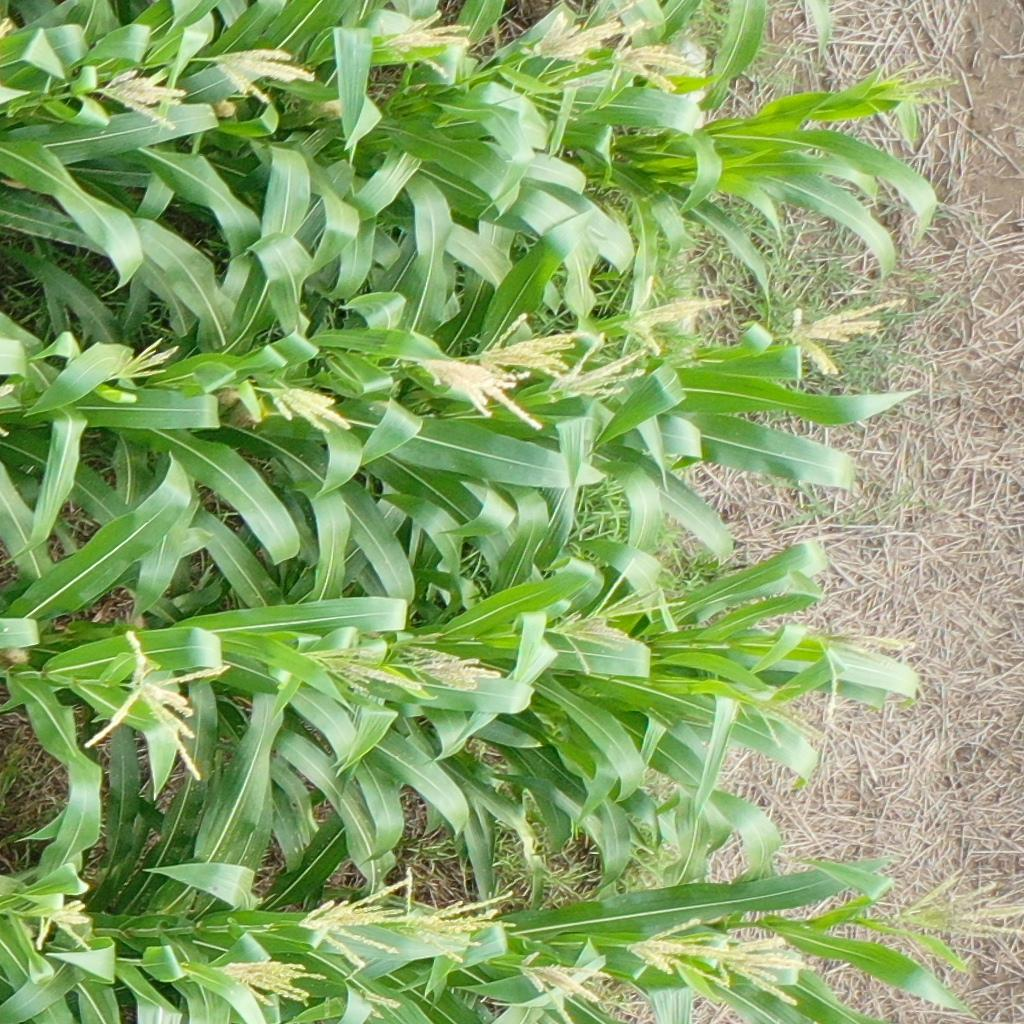Tassel: (78, 628, 231, 786), (807, 618, 919, 729), (770, 295, 907, 385), (401, 868, 519, 965), (297, 876, 409, 971), (420, 355, 544, 433), (899, 865, 1024, 939), (374, 4, 479, 88), (620, 275, 727, 356), (622, 917, 735, 987), (544, 331, 648, 407), (300, 644, 421, 706), (513, 54, 617, 124), (514, 949, 610, 1024), (716, 935, 818, 1005), (577, 559, 691, 620), (212, 47, 322, 109), (475, 313, 576, 379), (743, 681, 829, 755), (610, 28, 703, 92), (100, 68, 192, 132), (551, 609, 632, 680), (217, 959, 328, 1010), (862, 56, 962, 110), (519, 10, 617, 65), (267, 381, 354, 432), (407, 653, 502, 691), (34, 898, 94, 957), (104, 338, 182, 380), (389, 629, 459, 662), (581, 1, 643, 31)
